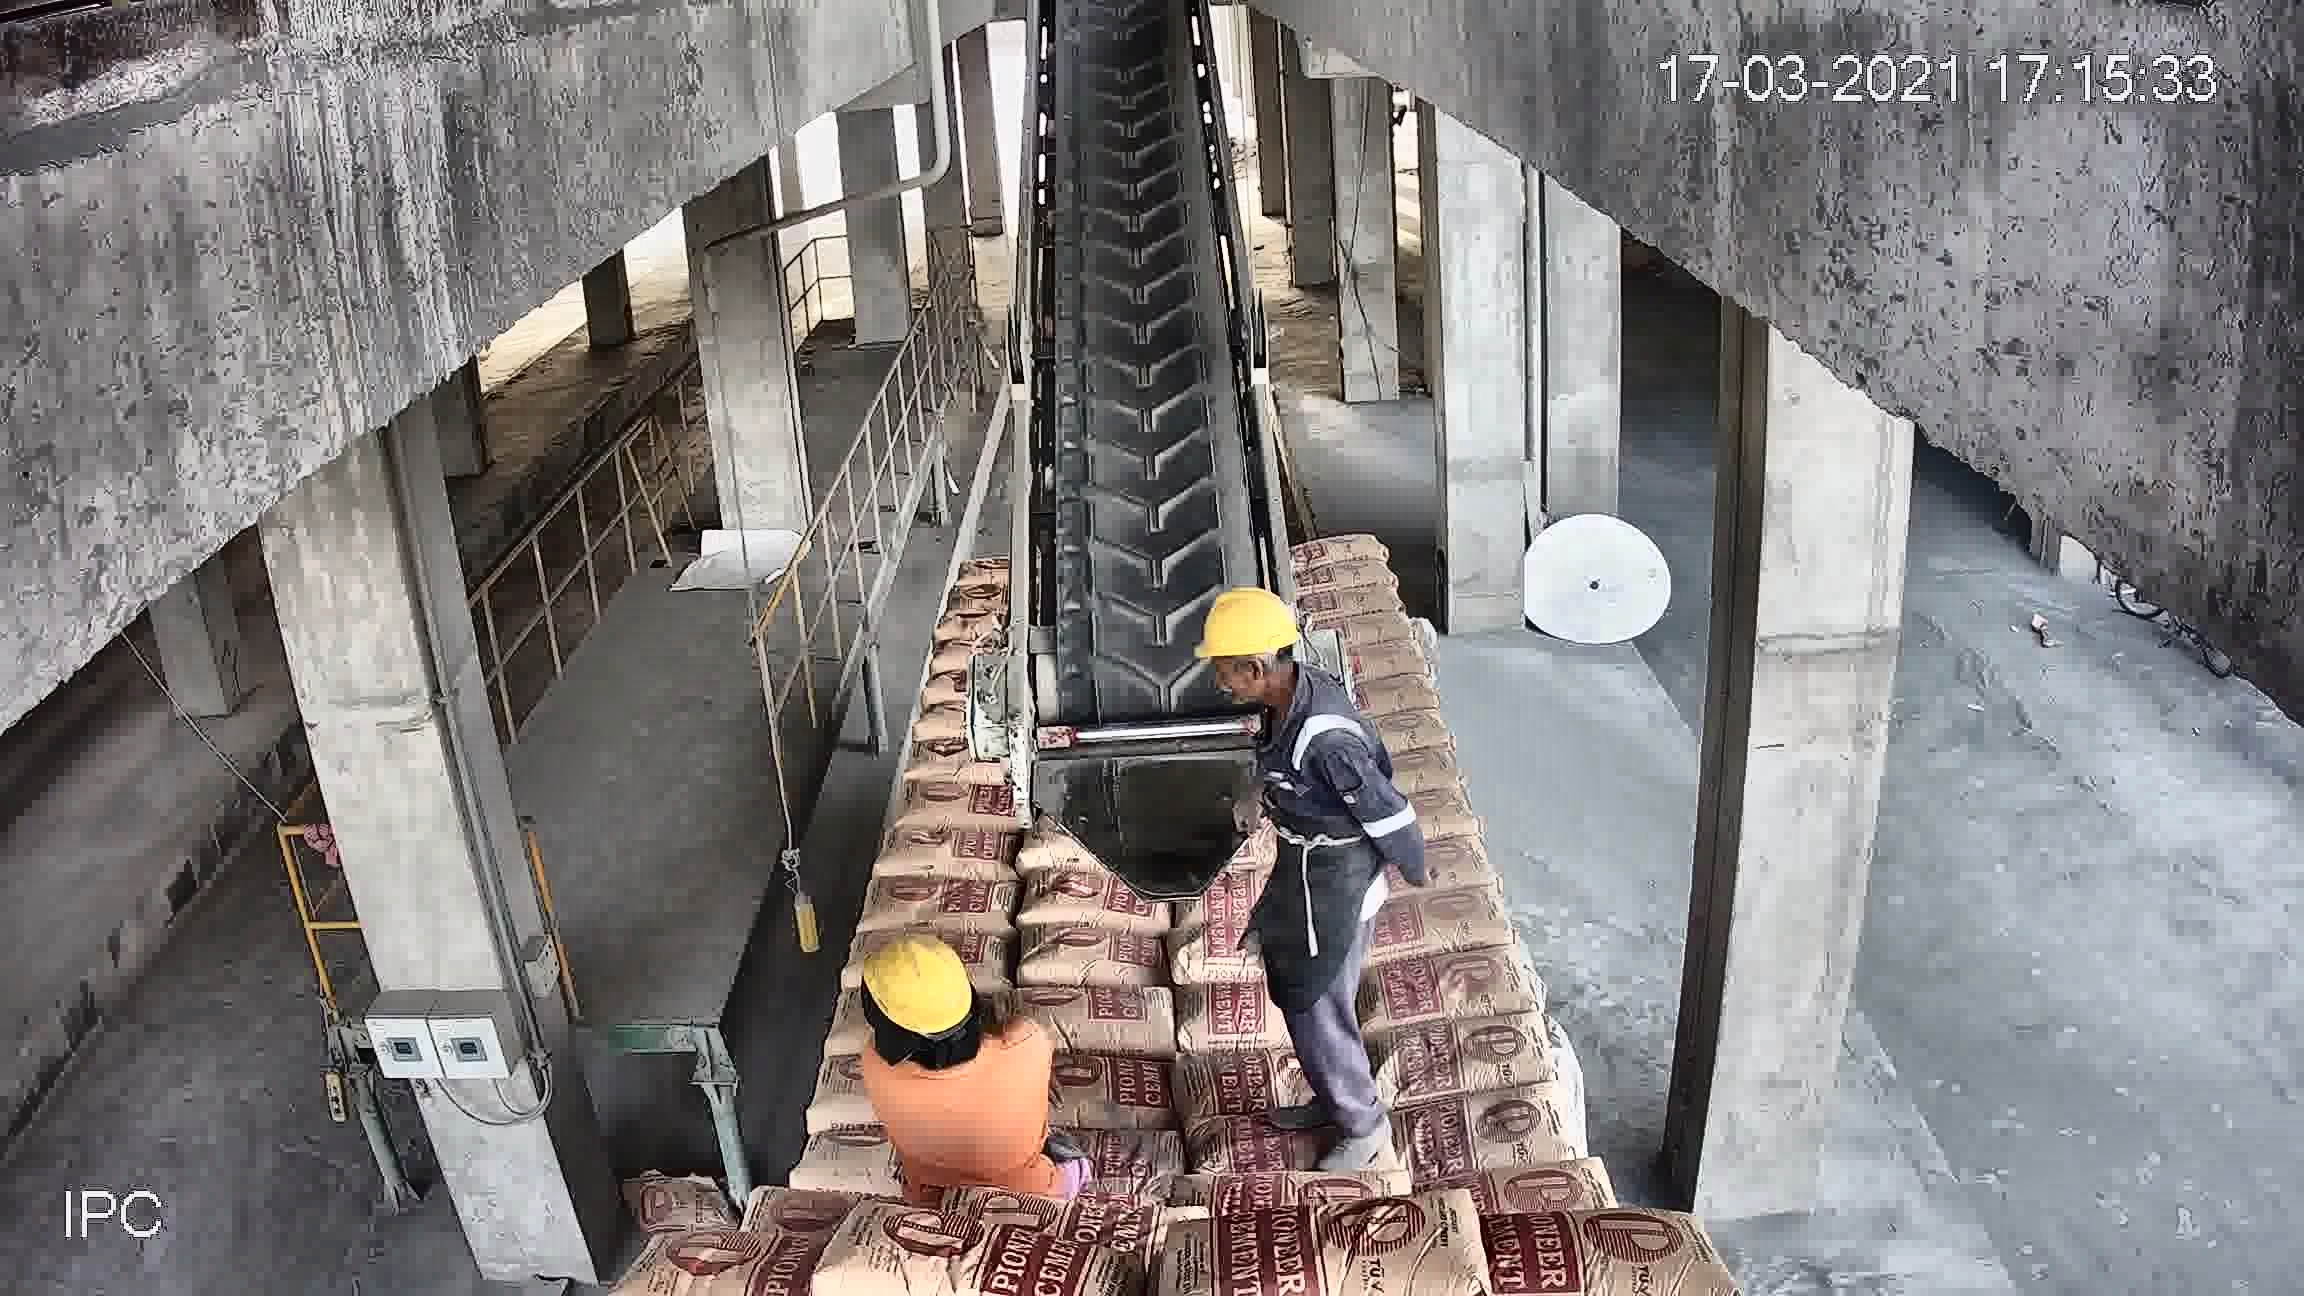bag_h: (1161, 1199, 1487, 1290), (1464, 1195, 1723, 1285), (812, 1222, 1111, 1294), (1410, 1076, 1605, 1176), (1375, 1014, 1556, 1108), (1355, 946, 1537, 1035), (642, 1226, 851, 1296), (1366, 878, 1514, 965), (1011, 915, 1161, 1000), (1176, 1168, 1407, 1218), (1174, 972, 1291, 1070), (1036, 989, 1195, 1059), (1438, 1163, 1609, 1225), (1043, 1052, 1180, 1124), (858, 869, 1027, 926), (1154, 921, 1283, 994), (862, 824, 1019, 885), (886, 771, 1005, 831), (1291, 533, 1396, 574), (1294, 559, 1397, 600), (1305, 582, 1400, 622)
belt: (1010, 38, 1272, 774)
